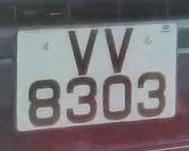0: (98, 69, 139, 125)
3: (135, 65, 171, 125), (64, 73, 102, 129)
8: (23, 71, 65, 133)
V: (64, 23, 103, 76), (101, 23, 136, 76)
